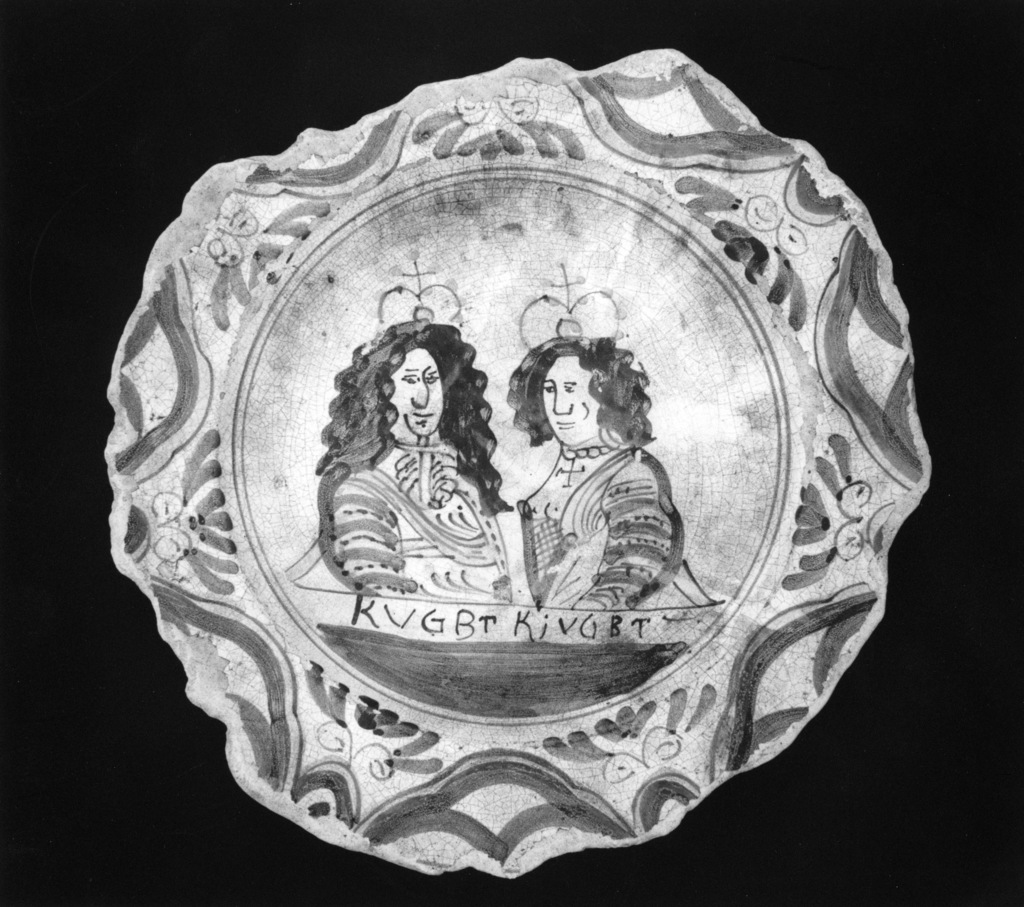plate: (104, 48, 933, 879)
